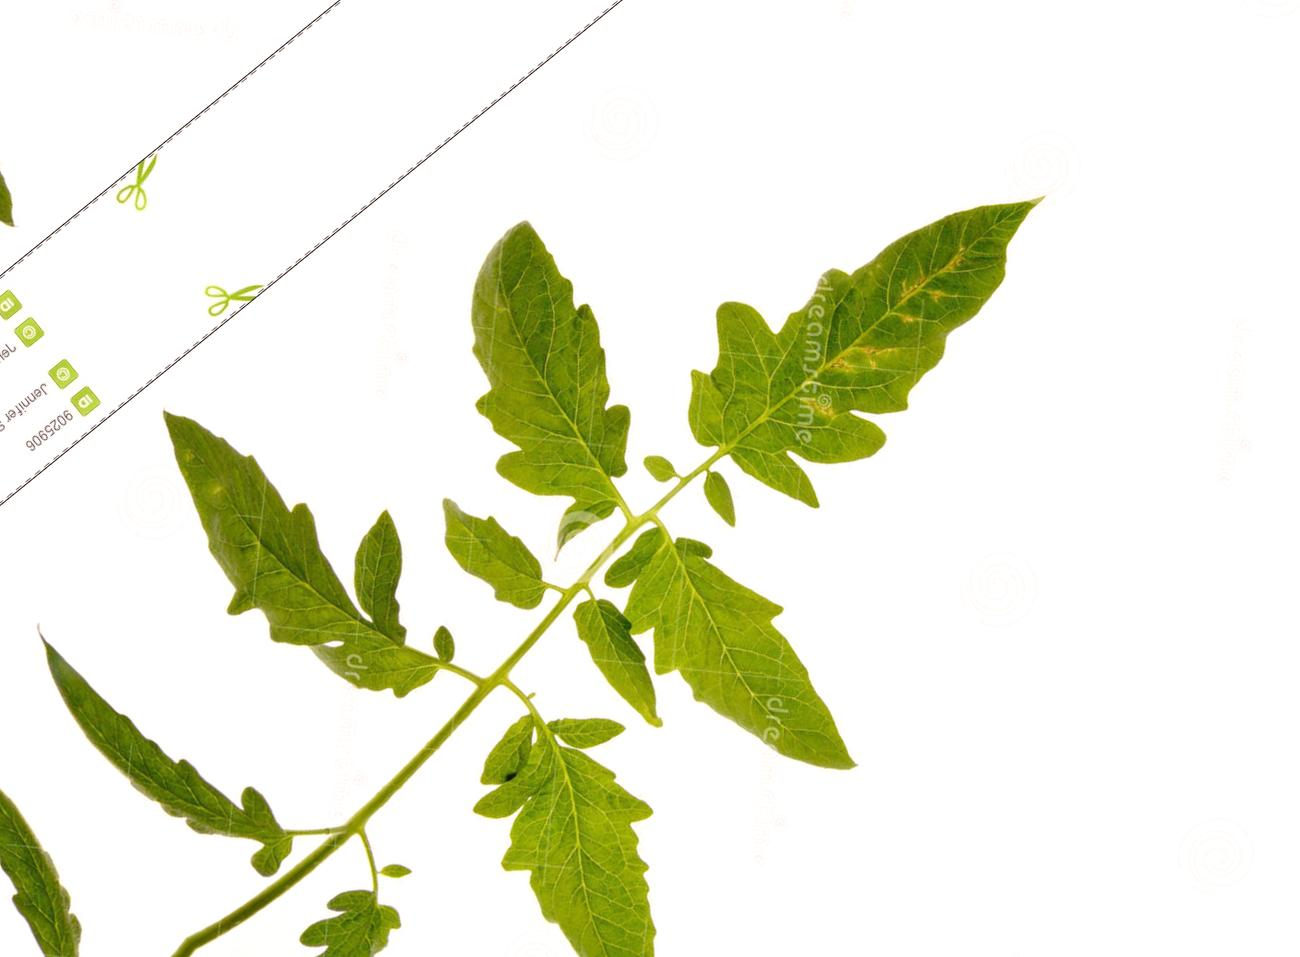Tomato leaf: (610, 77, 1113, 560), (82, 319, 512, 780), (323, 144, 755, 592), (558, 481, 916, 872), (402, 639, 814, 957)
